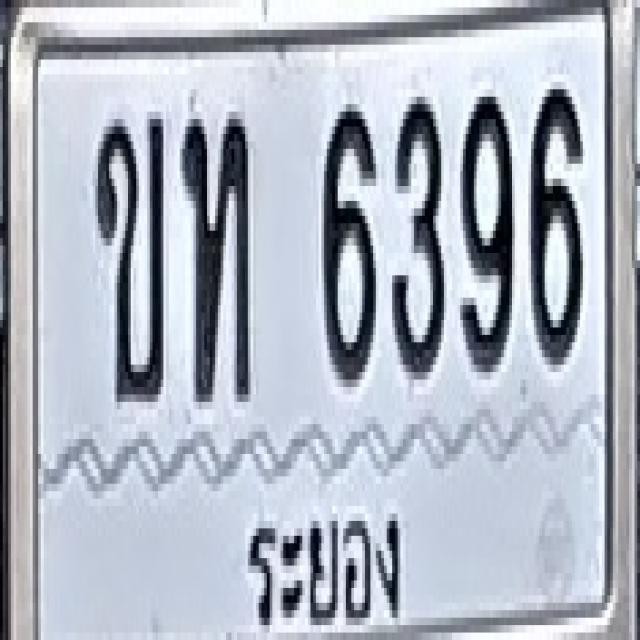-: (94, 111, 165, 402), (180, 111, 250, 402)
3: (389, 90, 444, 380)
6: (321, 100, 376, 384), (528, 82, 583, 365)
9: (460, 89, 512, 372)
